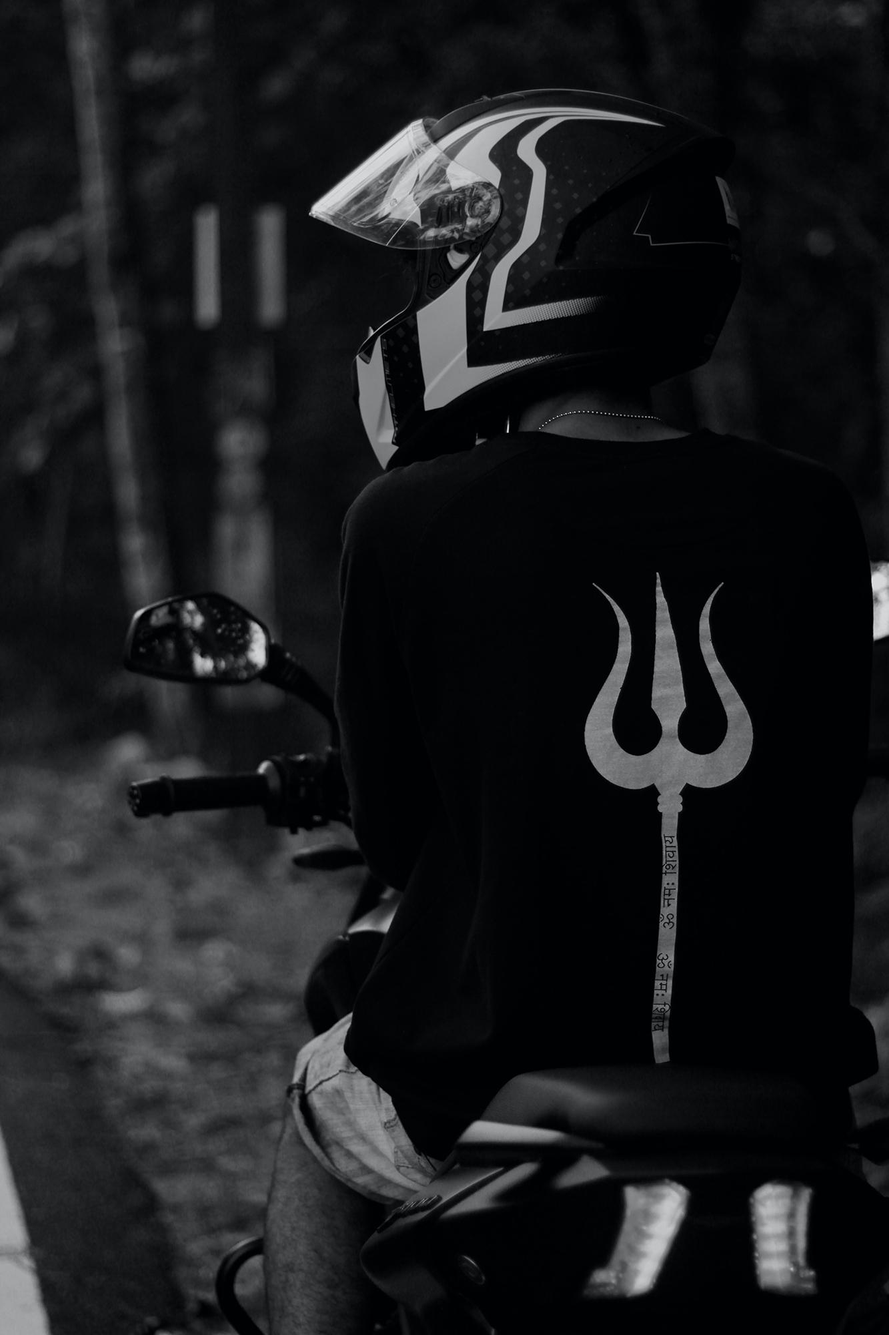helmet: (306, 85, 746, 481)
